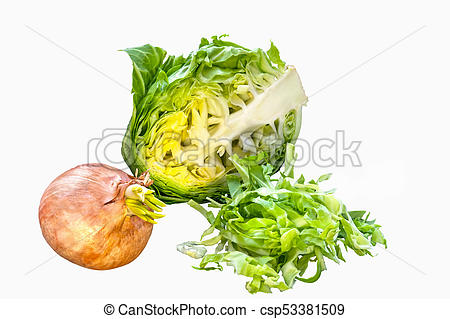chopped lettuce: (144, 85, 284, 182)
